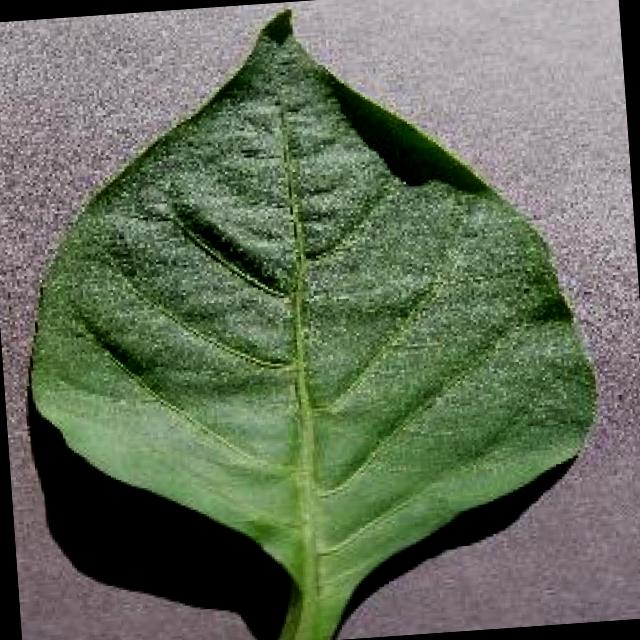Leaf: (33, 70, 556, 528)
